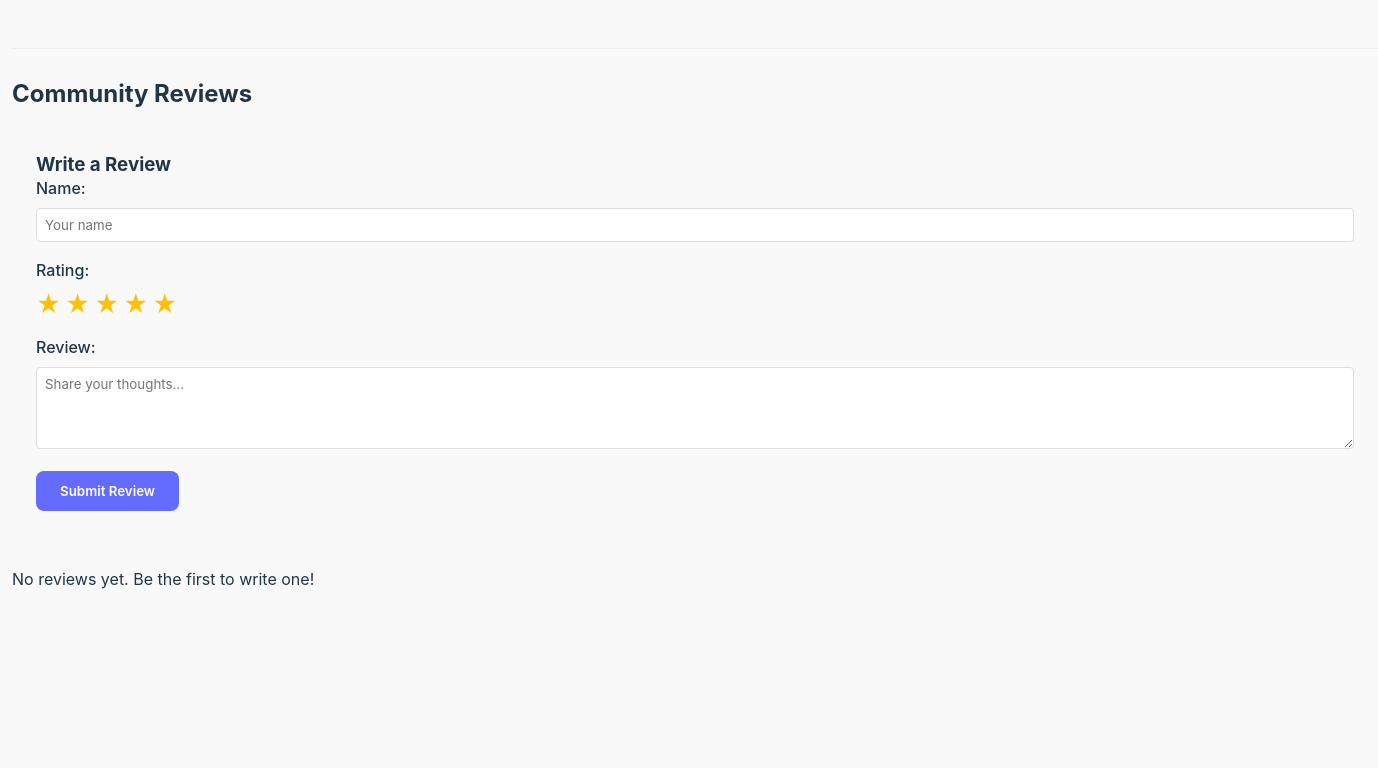
Test case: Review System › allows adding a review
In the field with placeholder "Your name": (695, 225) [36,208,1354,242], type "Test User"
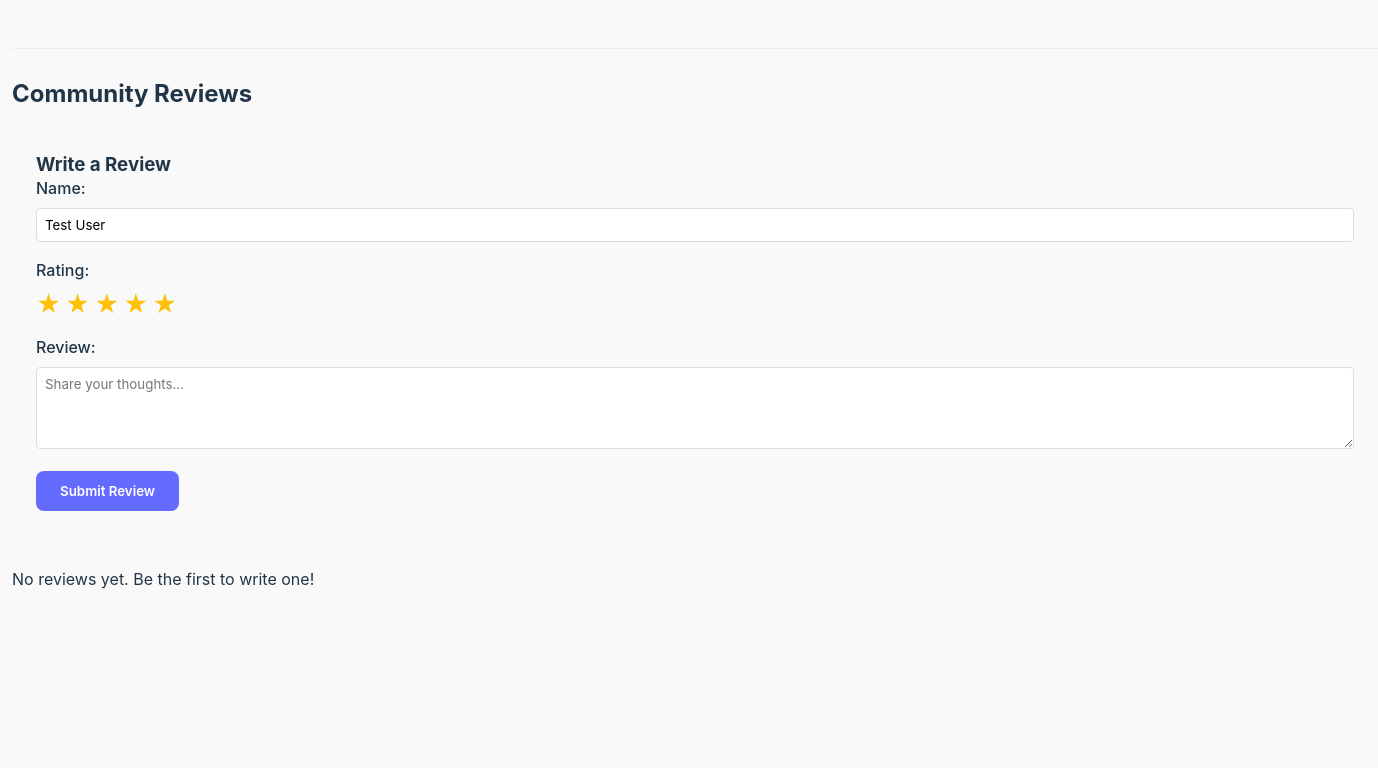
In the text box with placeholder "Share your thoughts...": (695, 408) [36,367,1354,449], type "Great book!"
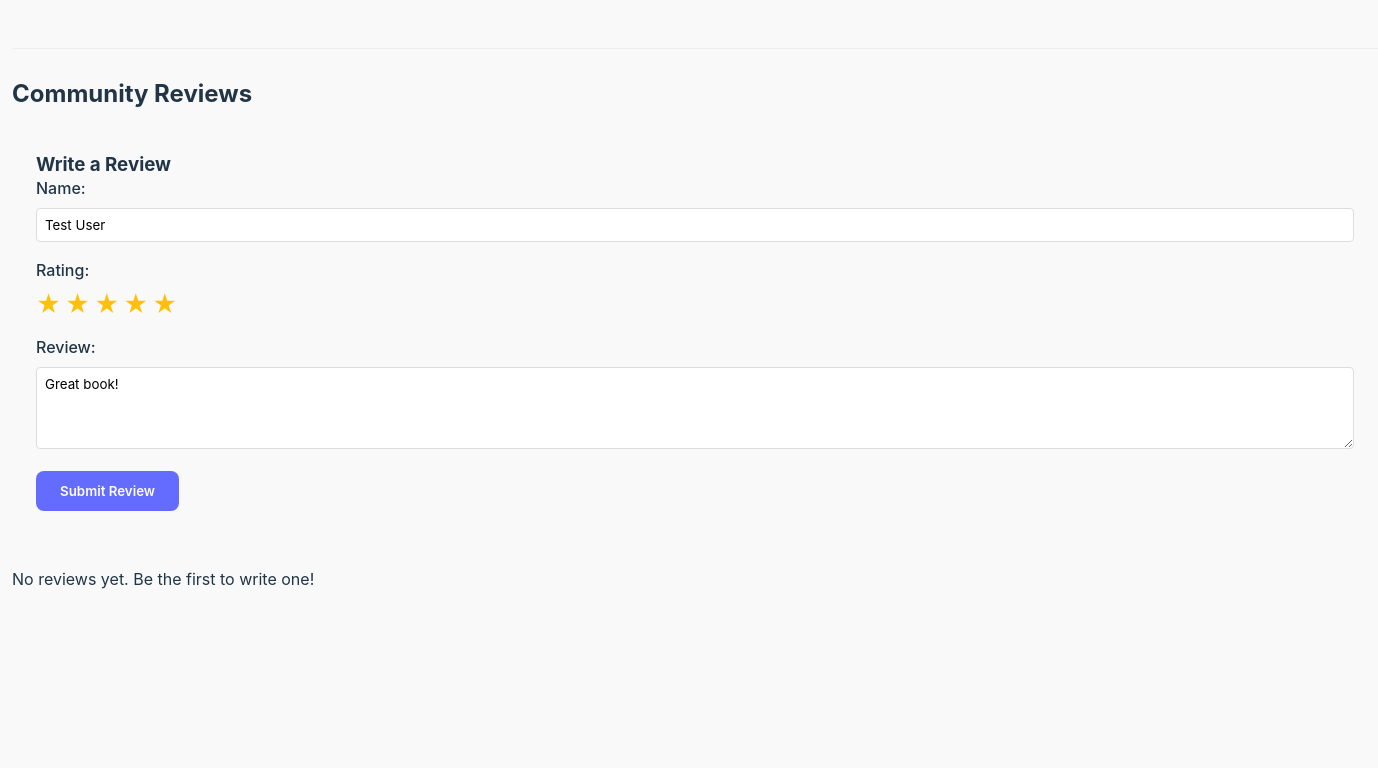
Click the button "Submit Review": (108, 491) [36,471,179,511]
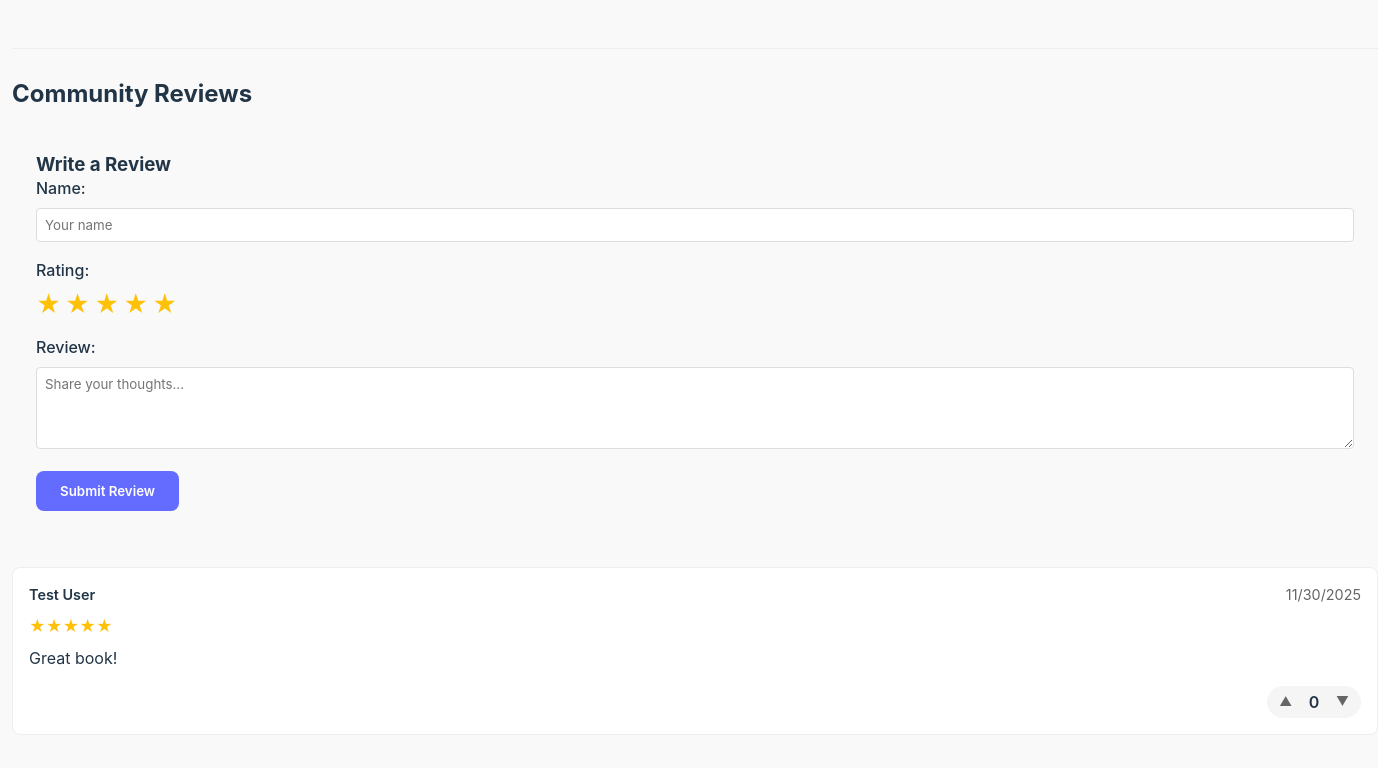
Expected: the text "Test User" is shown, [29,584,95,606]
Expected: the text "Great book!" is shown, [29,648,117,668]
Expected: the text "No reviews yet. Be the first to write one!" is gone
